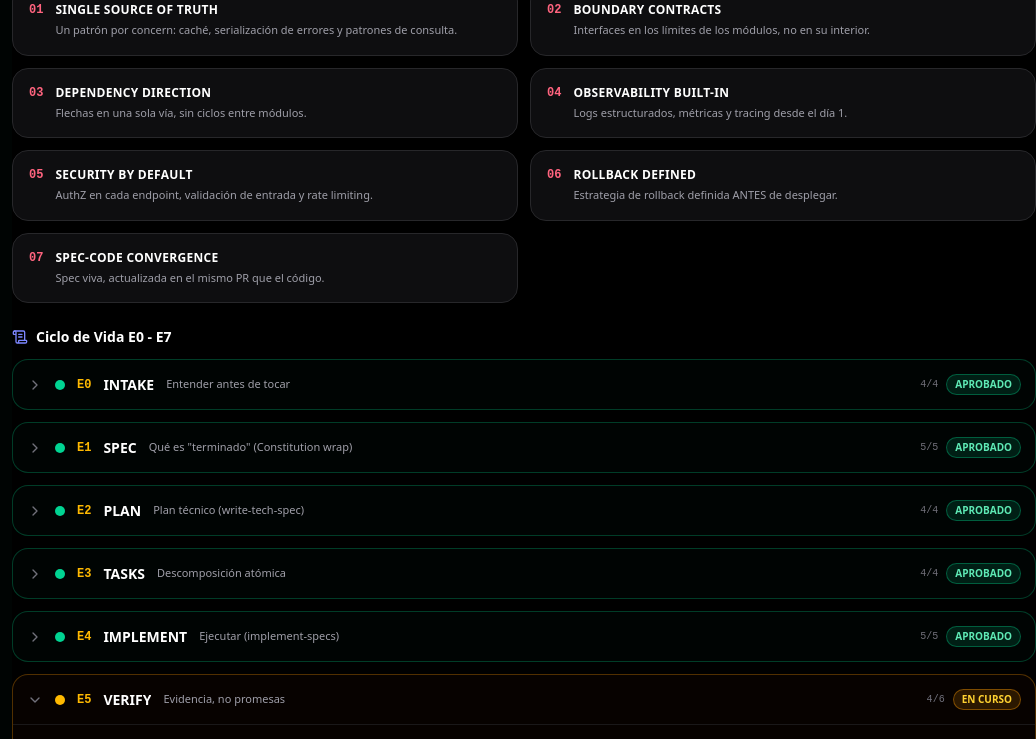
Test: SddMaestroView — checklist state machine (P3) › restores the canonical dataset on reset
The image size is (1036, 739).
(page scrolled)
Click the button "E0 INTAKE Entender antes de tocar 4/4 Aprobado". click: (129, 384)
box: [27,374,1021,395]
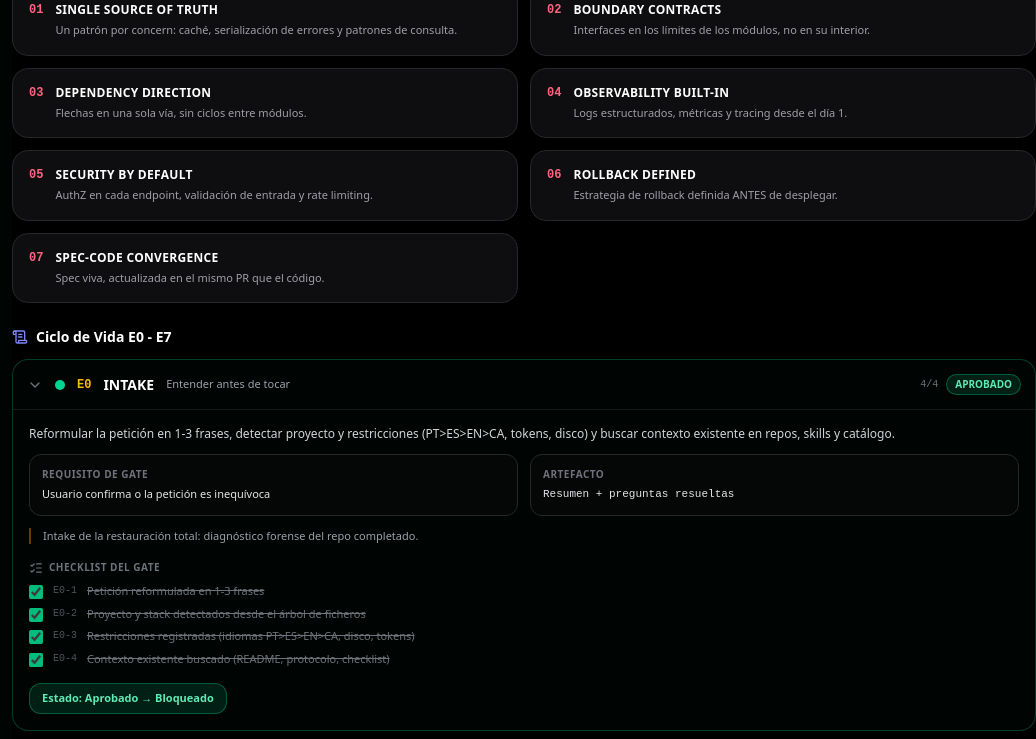
Click the checkbox labelled "E0-1 Petición reformulada en 1-3 frases". click: (36, 592)
box: [29,585,43,599]
(page scrolled)
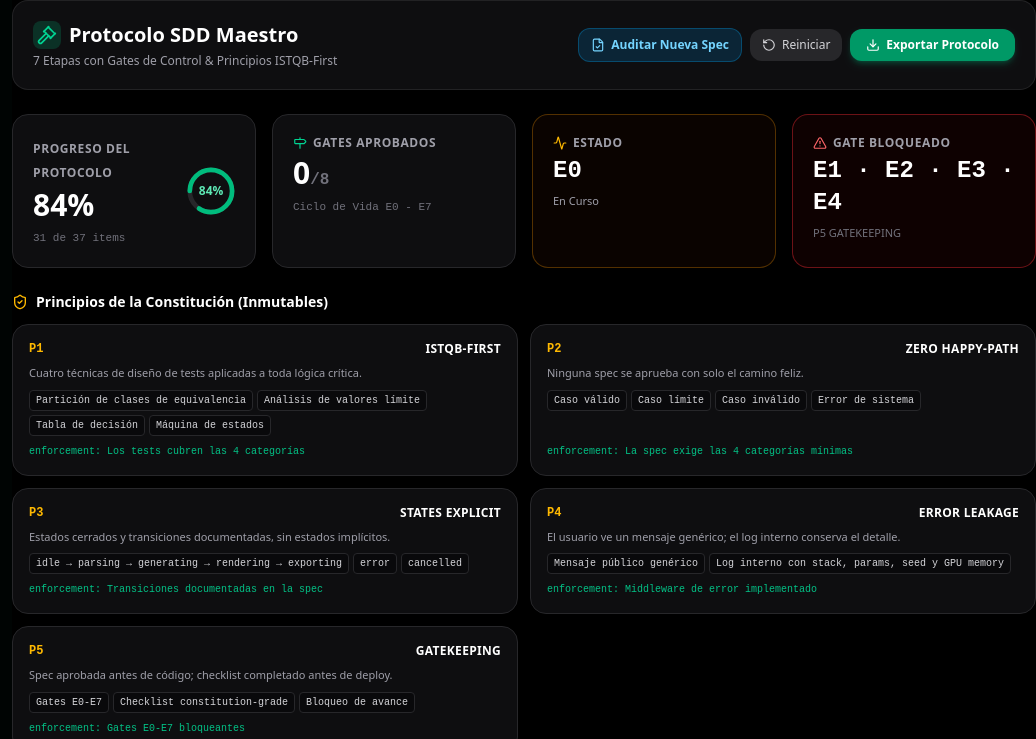
Click the button "Reiniciar". click: (796, 45)
box: [750,29,842,61]
(page scrolled)
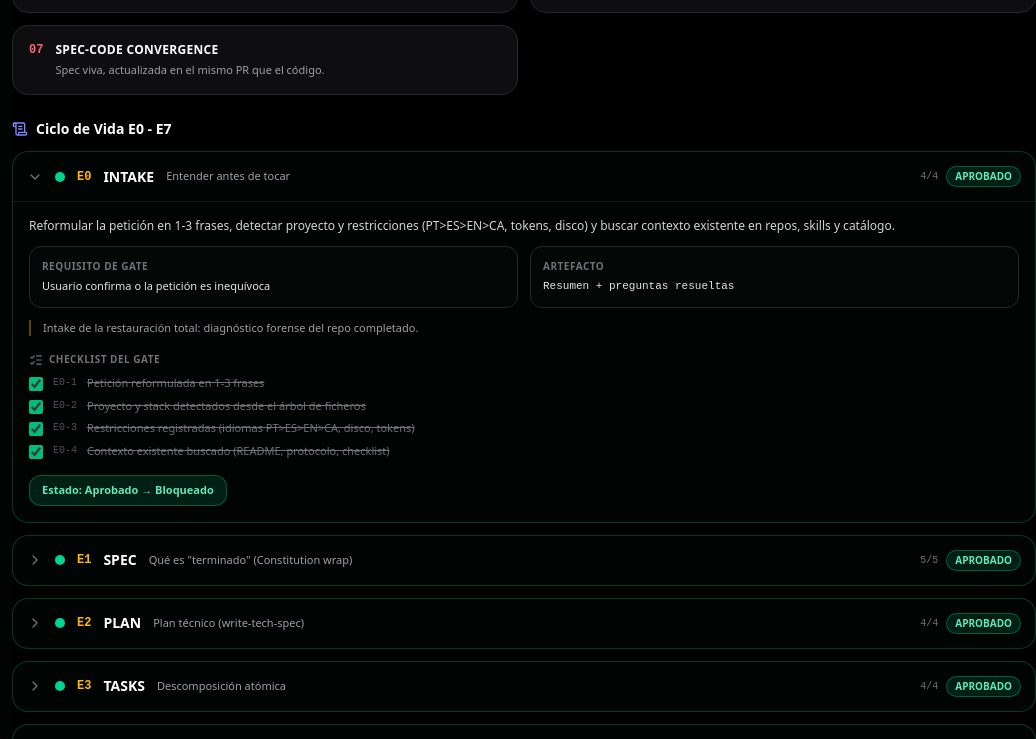
Now the checkbox labelled "E0-1 Petición reformulada en 1-3 frases" is checked, box [29,377,43,391]
